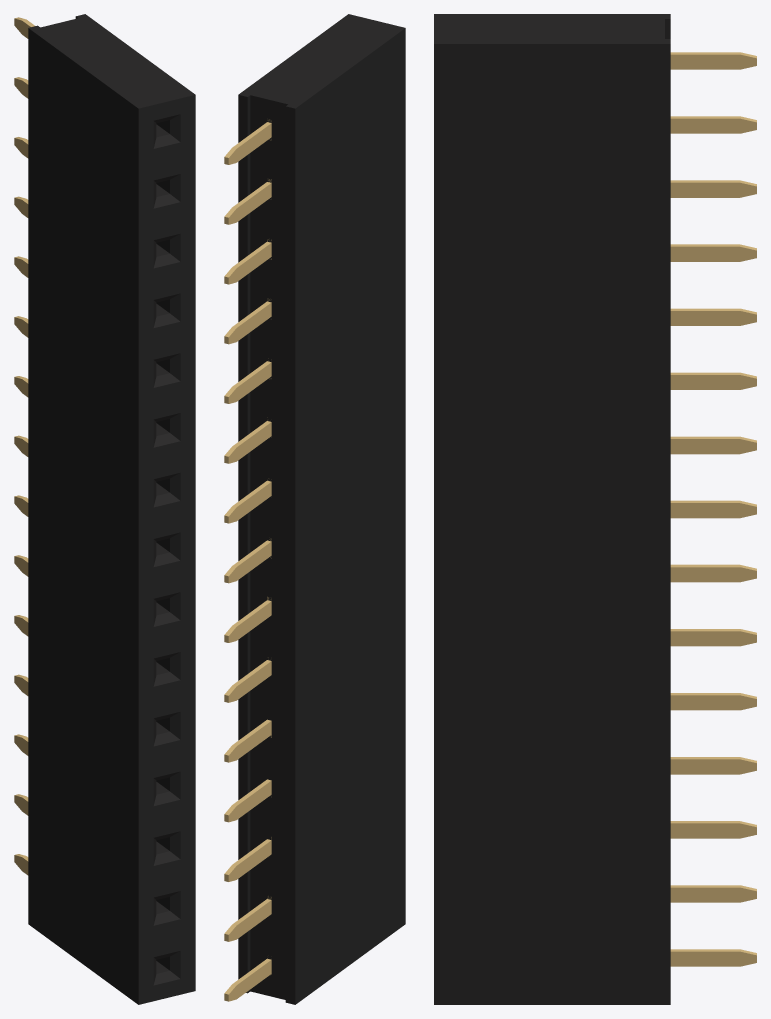
File: socket-1x15.glb
3 views of the same model, side by side, from view 1: azimuth 30°, elevation 25°; view 2: azimuth 150°, elevation 25°; view 3: azimuth 270°, elevation 25° (orthographic). The views are drawn at different scales.
Parts seen in each view (by area): view 1: IC-BODY-EPOXY-04, PIN-02; view 2: IC-BODY-EPOXY-04, PIN-02 (×15); view 3: IC-BODY-EPOXY-04, PIN-02 (×13).
Part boxes in pixels (box(x1,y1,x2,y2)): IC-BODY-EPOXY-04: box(28, 14, 195, 1004); PIN-02: box(14, 17, 34, 875); IC-BODY-EPOXY-04: box(238, 14, 405, 1004); PIN-02 (×15): box(224, 119, 271, 1001); IC-BODY-EPOXY-04: box(434, 14, 670, 1004); PIN-02 (×13): box(670, 52, 756, 966).
Size of the model in its own units: 2.54 by 38.1 by 11.6.
